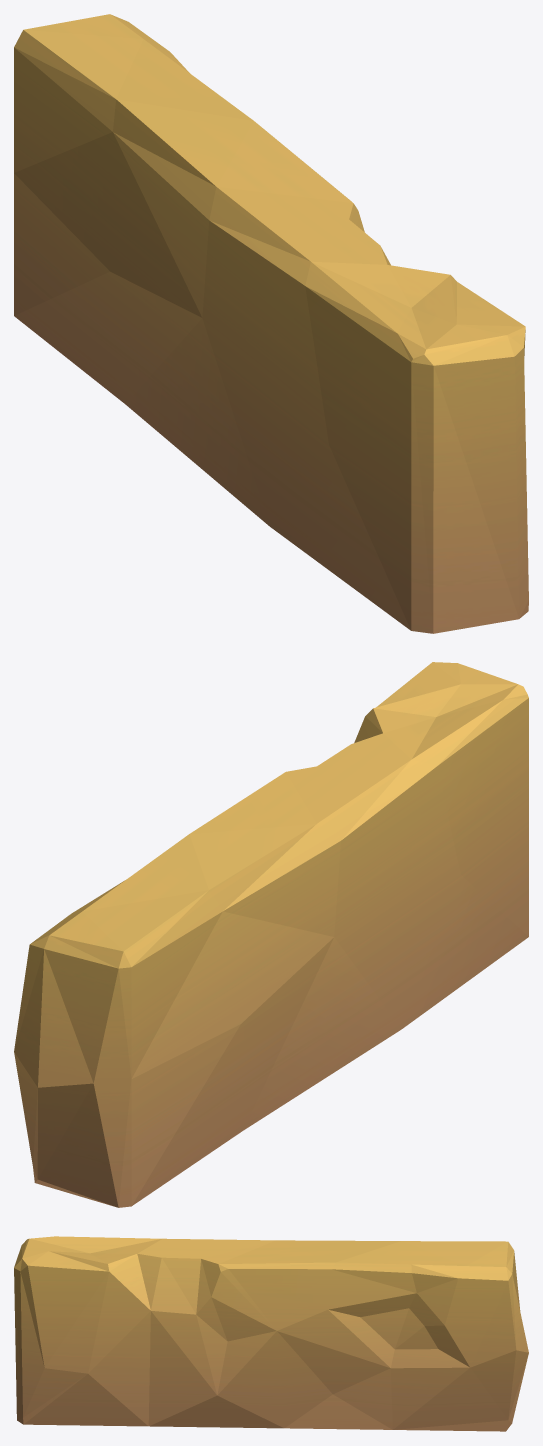
The picture shows the model from 3 angles, top to bottom: view 1: azimuth 30°, elevation 25°; view 2: azimuth 150°, elevation 25°; view 3: azimuth 270°, elevation 25°; orthographic projection. The views are drawn at different scales.
Parts seen in each view (by area): view 1: OldWall2; view 2: OldWall2; view 3: OldWall2.
Part boxes in pixels (x1,y1,x2,y2): OldWall2: (14, 14, 528, 633); OldWall2: (14, 662, 528, 1207); OldWall2: (14, 1236, 528, 1431).
Size of the model in its own units: 1.29 by 2.32 by 6.66.
Materials: 1 (1 with a texture image).
